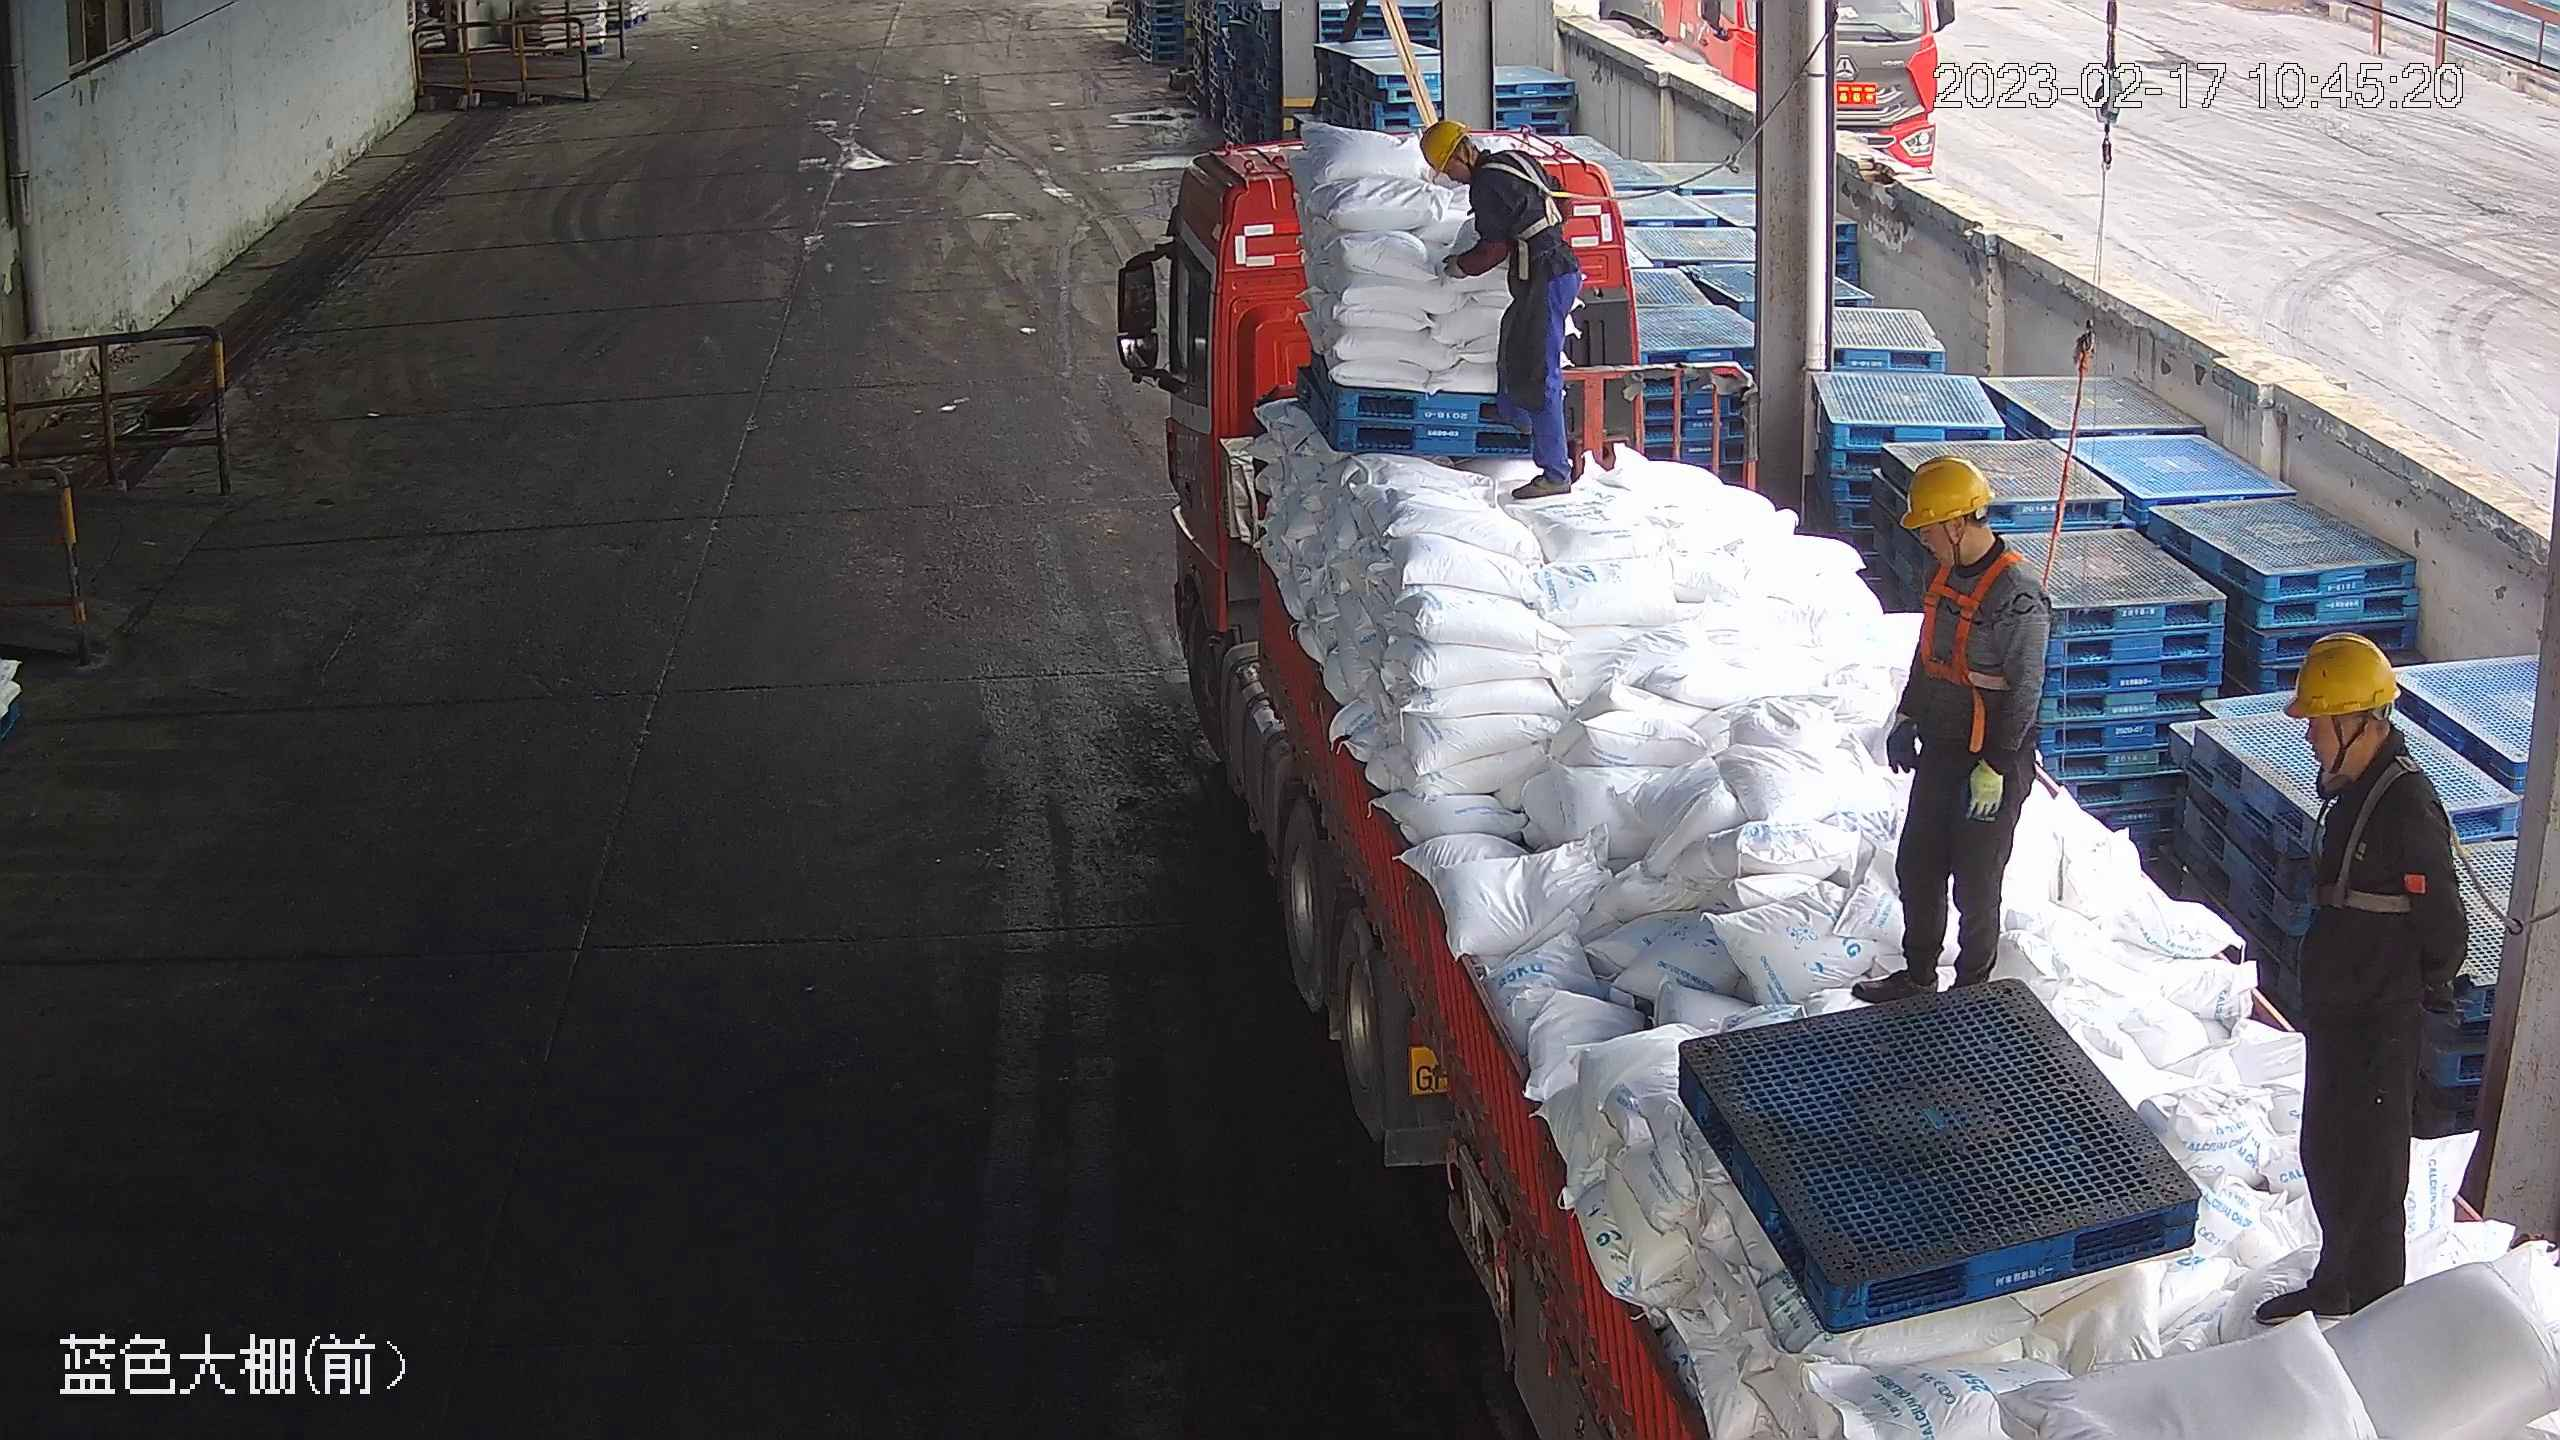belt: (2301, 755, 2429, 923), (1907, 547, 2039, 698), (1484, 143, 1577, 250)
head: (2262, 631, 2443, 832), (1891, 455, 2049, 640), (1425, 126, 1555, 228)
helmet: (2280, 633, 2401, 722), (1897, 456, 1999, 529), (1422, 122, 1472, 174)
people: (2245, 627, 2469, 1323), (1848, 456, 2056, 1007), (1422, 121, 1589, 500)
truck: (1108, 122, 2560, 1440)
